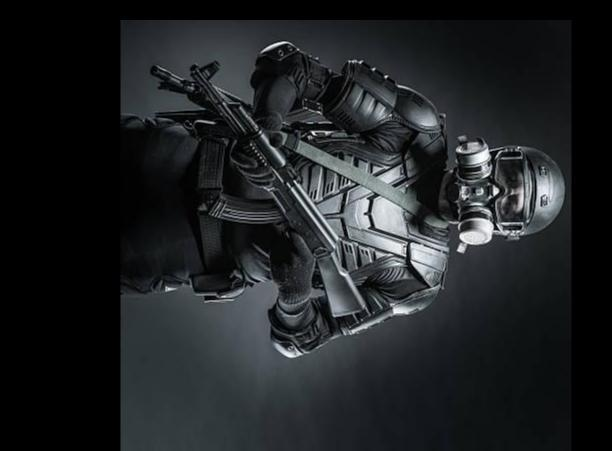larga: (188, 61, 368, 319)
